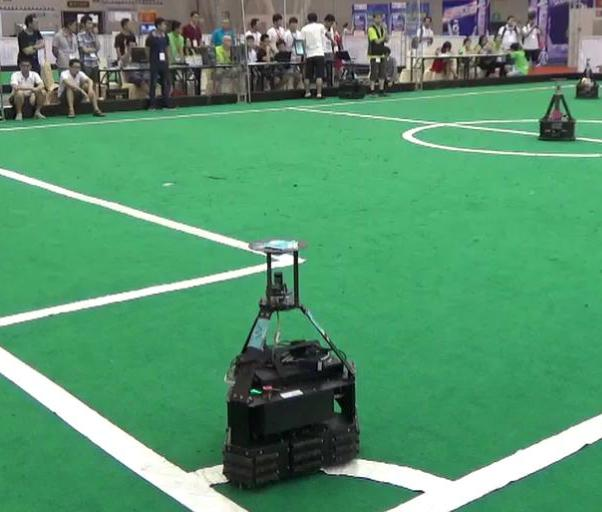robot: (216, 228, 366, 492), (534, 75, 578, 142)
